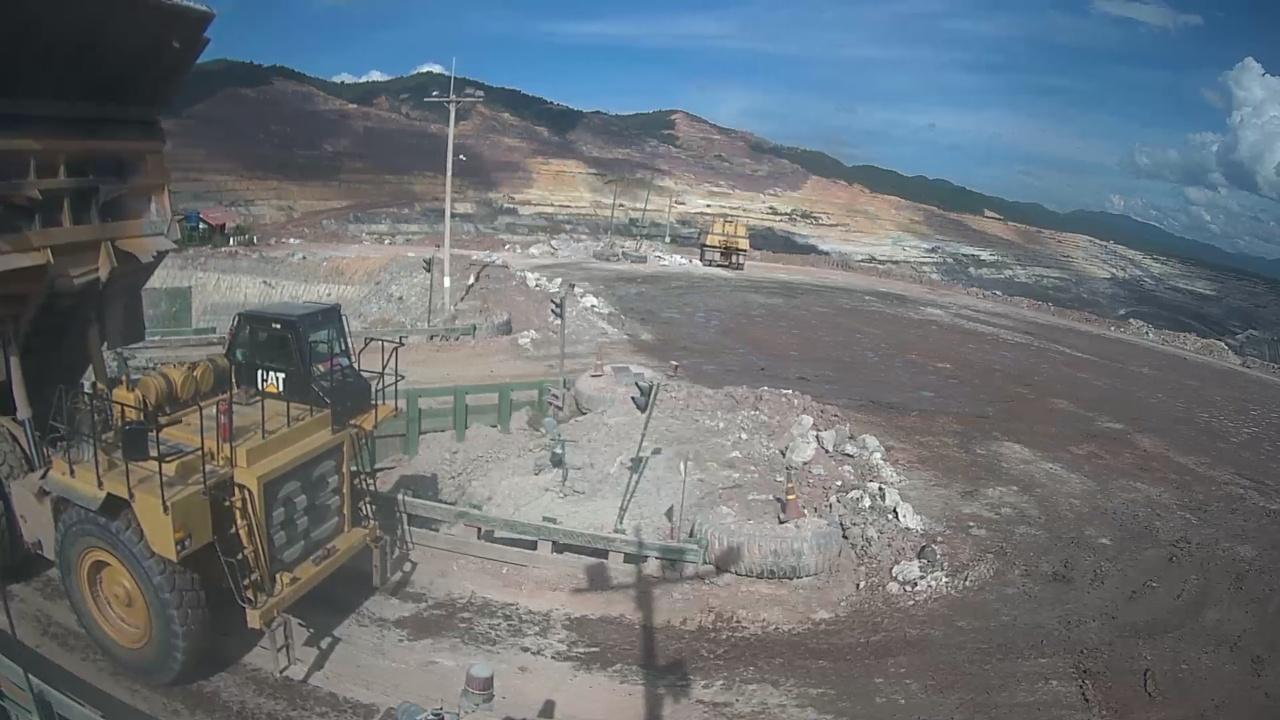dumping_soil: (0, 0, 413, 688)
front_number: (259, 453, 356, 568)
